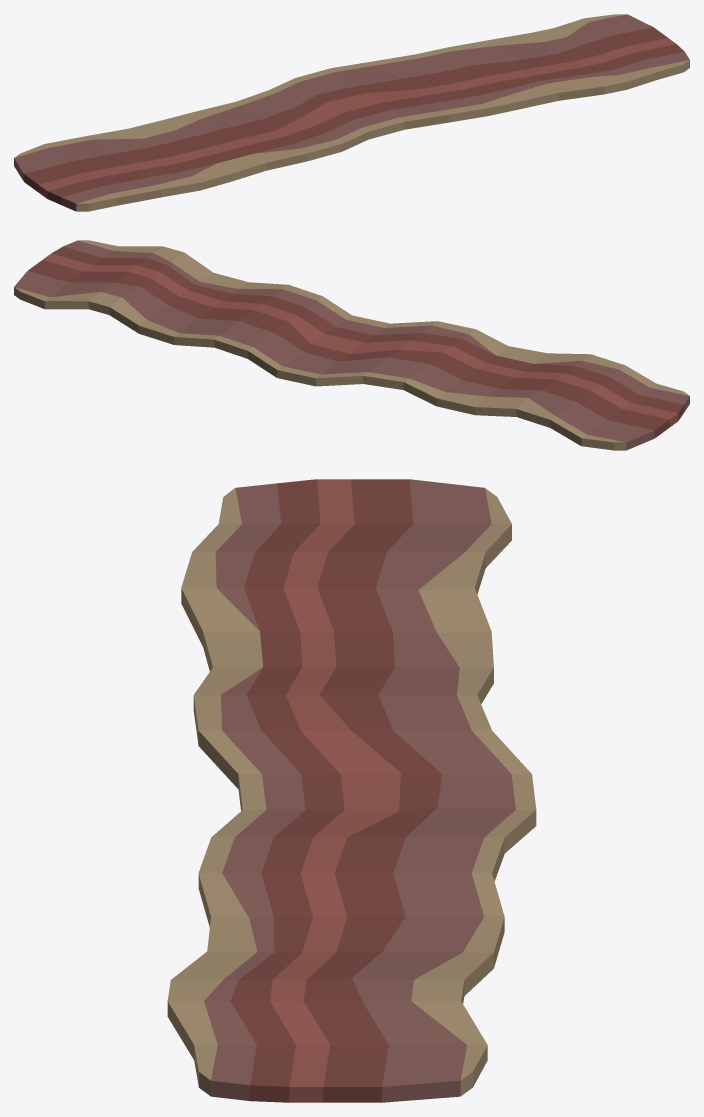
Rendered from bacon.glb.
3 renders of one model, top to bottom at view 1: azimuth 30°, elevation 25°; view 2: azimuth 150°, elevation 25°; view 3: azimuth 270°, elevation 25°, orthographic. The views are drawn at different scales.
Parts seen in each view (by area): view 1: Bacon_Cooked; view 2: Bacon_Cooked; view 3: Bacon_Cooked.
Boxes of the visible parts, left/top/right/bottom form: Bacon_Cooked: left=14, top=14, right=689, bottom=211; Bacon_Cooked: left=14, top=240, right=689, bottom=450; Bacon_Cooked: left=167, top=479, right=536, bottom=1102.
Bounding box in the file's own units: 1.16 × 0.0213 × 0.2968.
